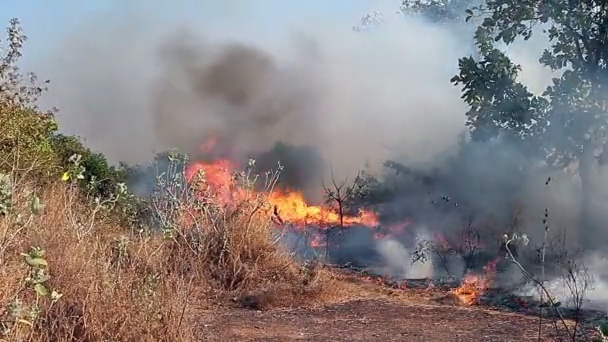fire: (457, 275, 482, 304), (62, 172, 69, 181)
